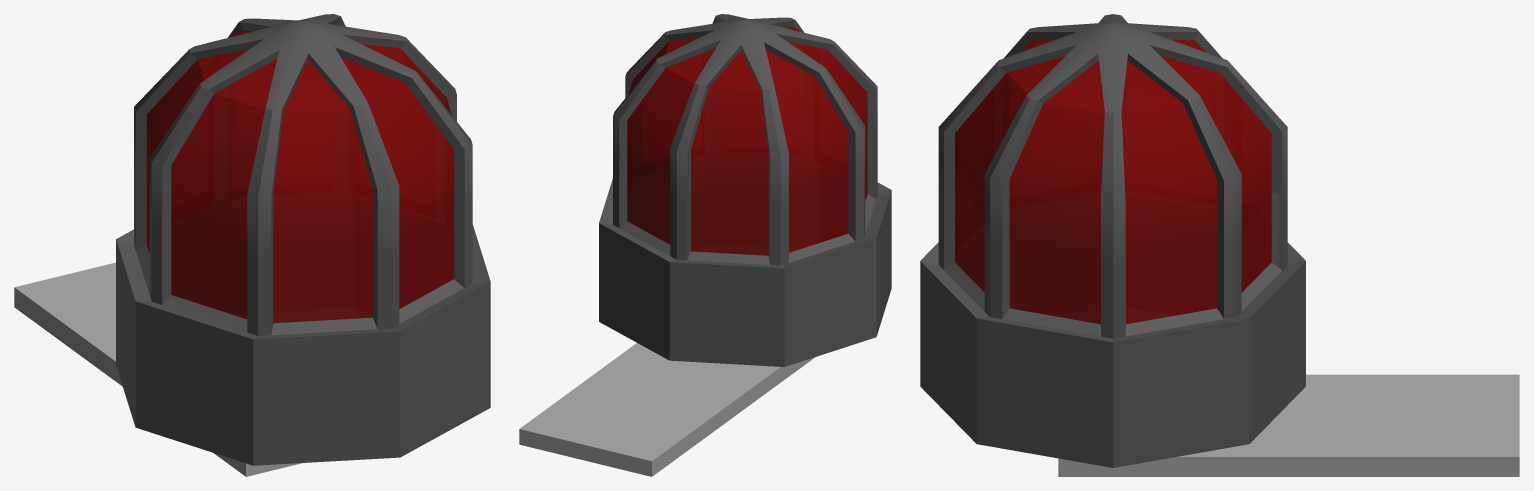
File: Siren_01.fbx
The picture shows the model from 3 angles, left to right: view 1: azimuth 30°, elevation 25°; view 2: azimuth 150°, elevation 25°; view 3: azimuth 270°, elevation 25°; orthographic projection. The views are drawn at different scales.
Parts seen in each view (by area): view 1: Siren, Siren_Arm; view 2: Siren, Siren_Arm; view 3: Siren, Siren_Arm.
Part boxes in pixels (x1,y1,x2,y2): Siren: [116, 14, 490, 465]; Siren_Arm: [14, 262, 302, 476]; Siren: [599, 14, 891, 366]; Siren_Arm: [519, 343, 815, 476]; Siren: [920, 14, 1305, 467]; Siren_Arm: [1058, 374, 1519, 476].
Size of the model in its own units: 0.2813 by 0.331 by 0.4371.
